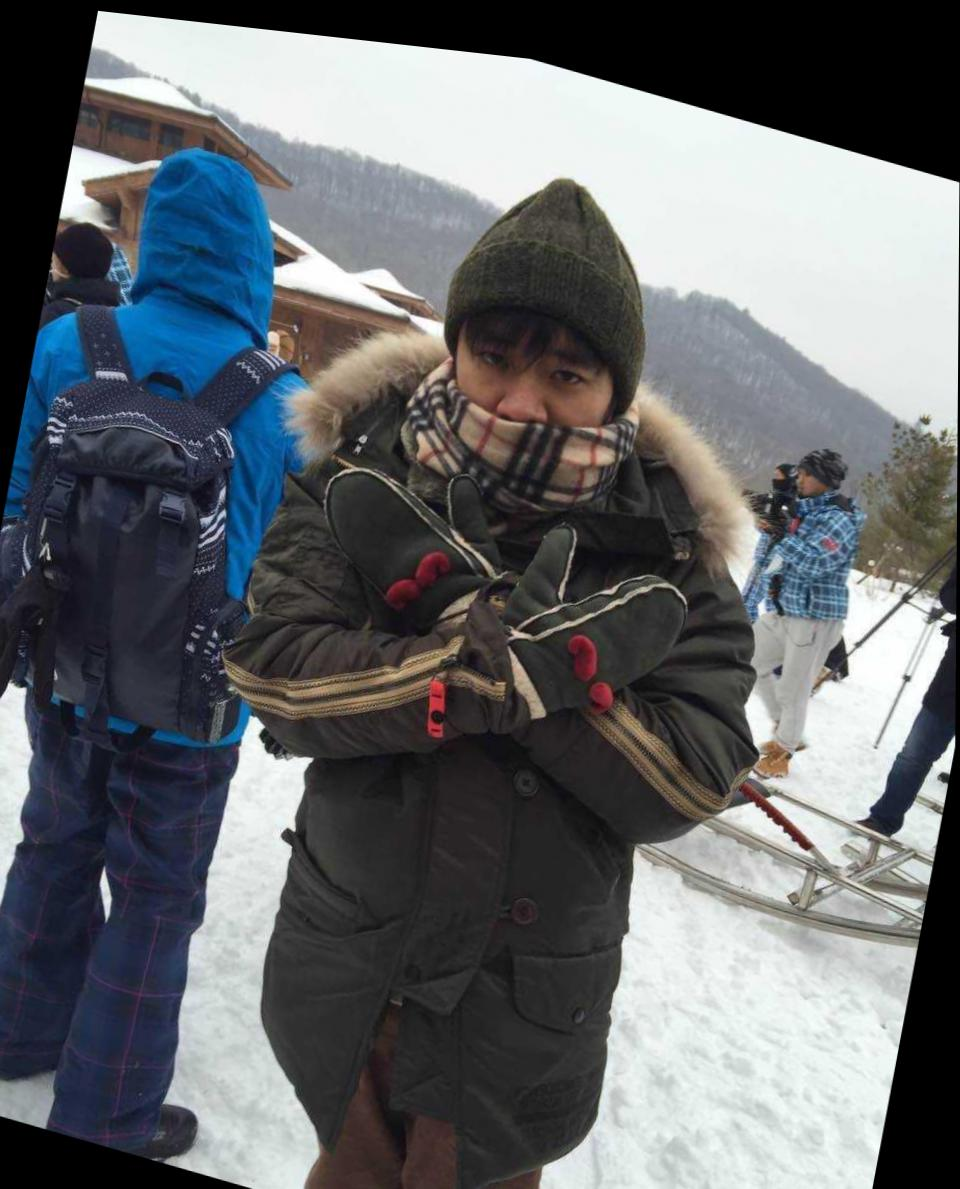NONE: (793, 445, 823, 482)
WRONG: (432, 288, 615, 486)
